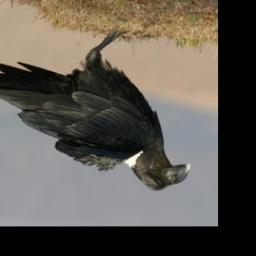Crow: (0, 24, 194, 194)
